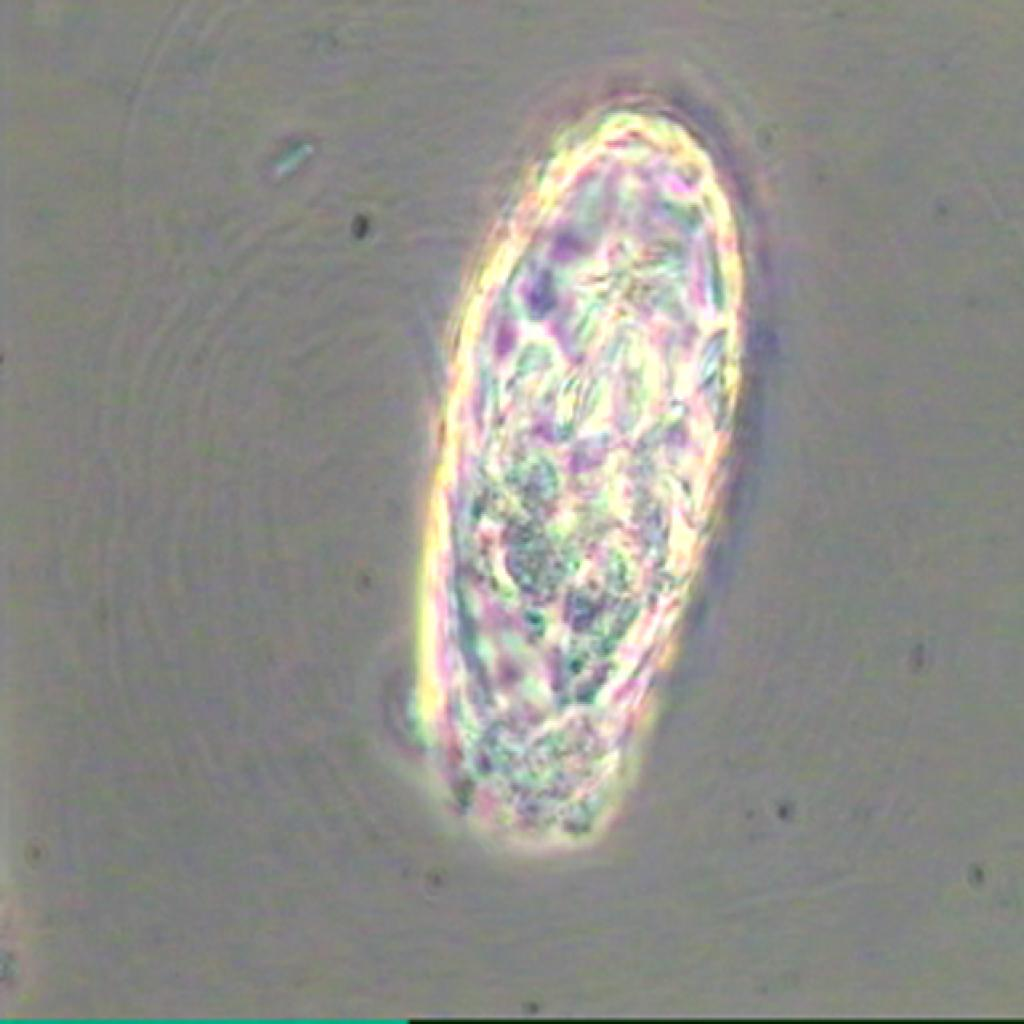Euglypha: (375, 47, 812, 855)
